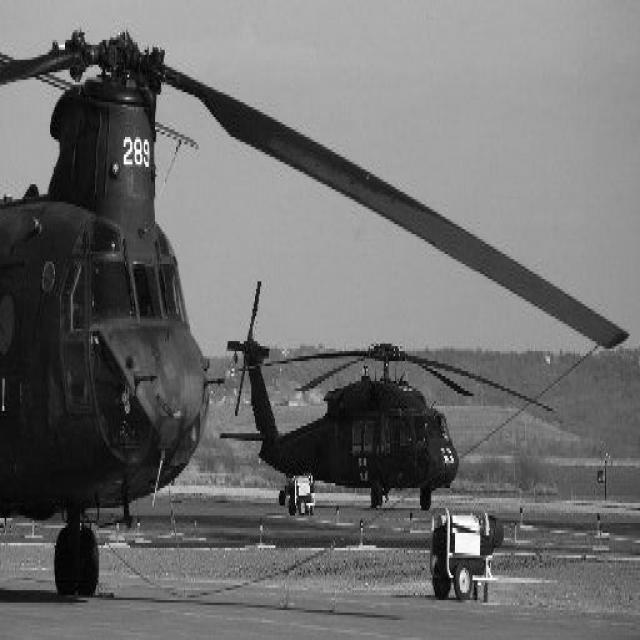helikopter: (229, 302, 496, 512)
